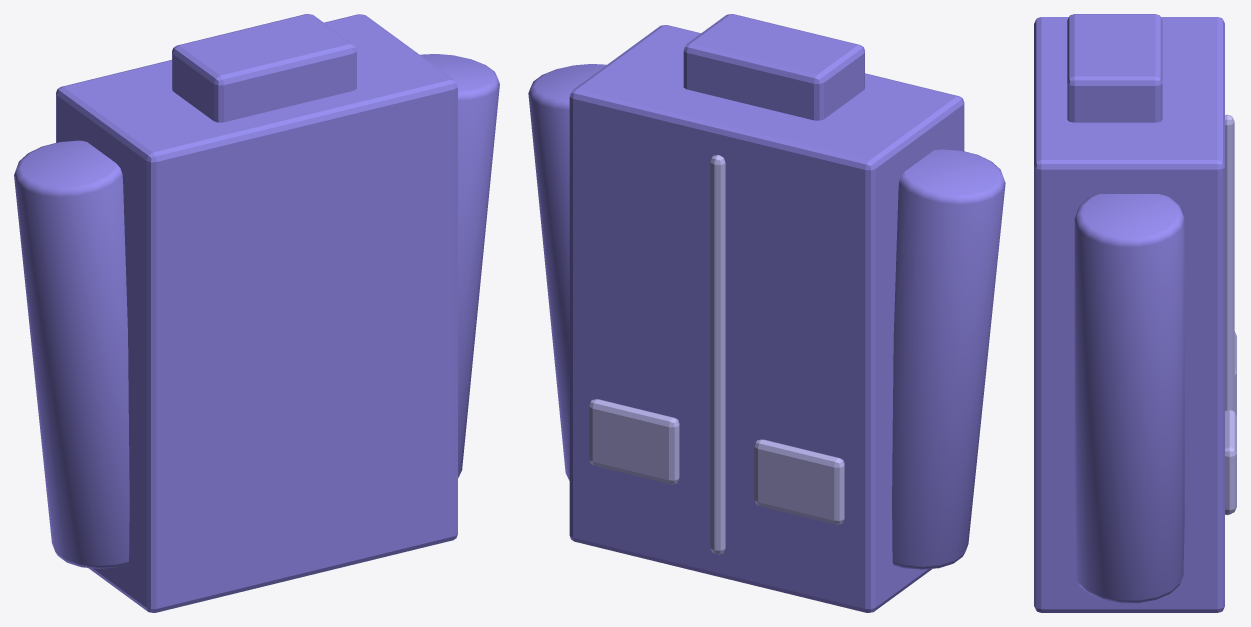
Rendered from VM-CAB-SH39910069.glb.
The picture shows the model from 3 angles, left to right: view 1: azimuth 30°, elevation 25°; view 2: azimuth 150°, elevation 25°; view 3: azimuth 270°, elevation 25°; orthographic projection.
Parts seen in each view (by area): view 1: Jersey De Práctica Fútbol Unbeatablesale; view 2: Jersey De Práctica Fútbol Unbeatablesale; view 3: Jersey De Práctica Fútbol Unbeatablesale.
Boxes of the visible parts, bbox=[...] form: Jersey De Práctica Fútbol Unbeatablesale: bbox=[14, 14, 499, 612]; Jersey De Práctica Fútbol Unbeatablesale: bbox=[528, 14, 1005, 612]; Jersey De Práctica Fútbol Unbeatablesale: bbox=[1034, 14, 1236, 612].
Bounding box in the file's own units: 0.7607 × 0.7812 × 0.2894.
